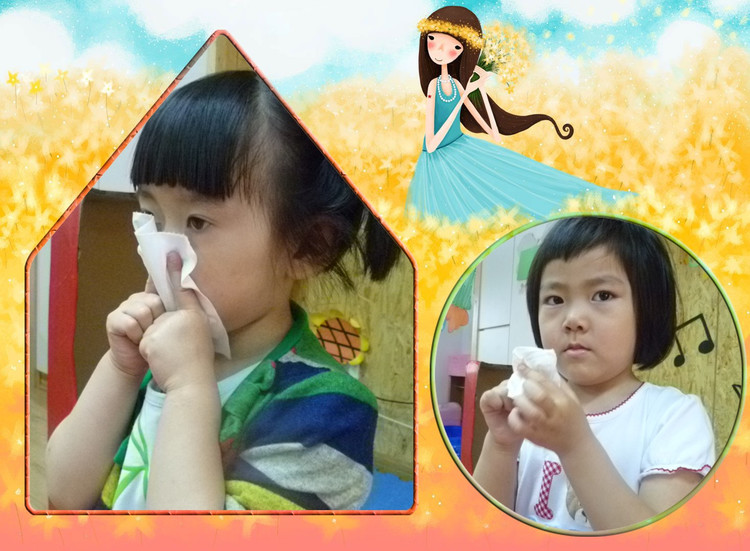face: (128, 151, 284, 338), (540, 243, 640, 383)
